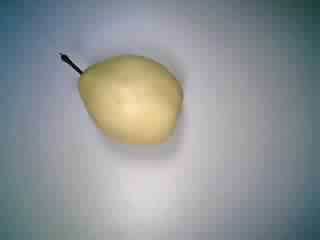pear: (51, 38, 193, 154)
